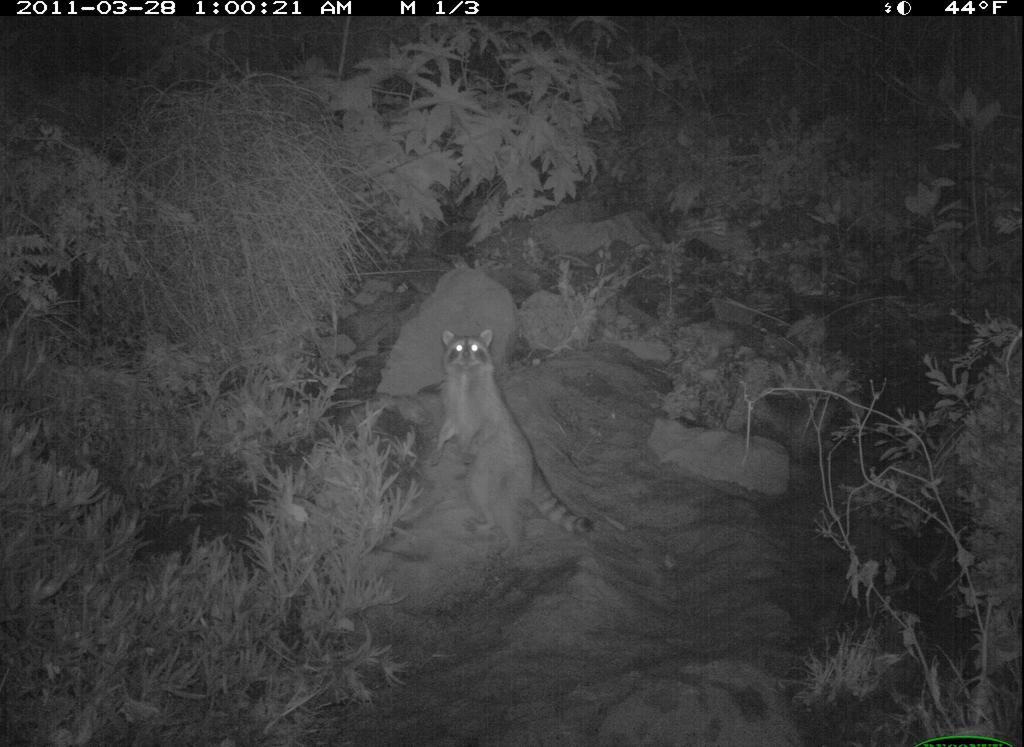raccoon: (431, 324, 600, 562)
